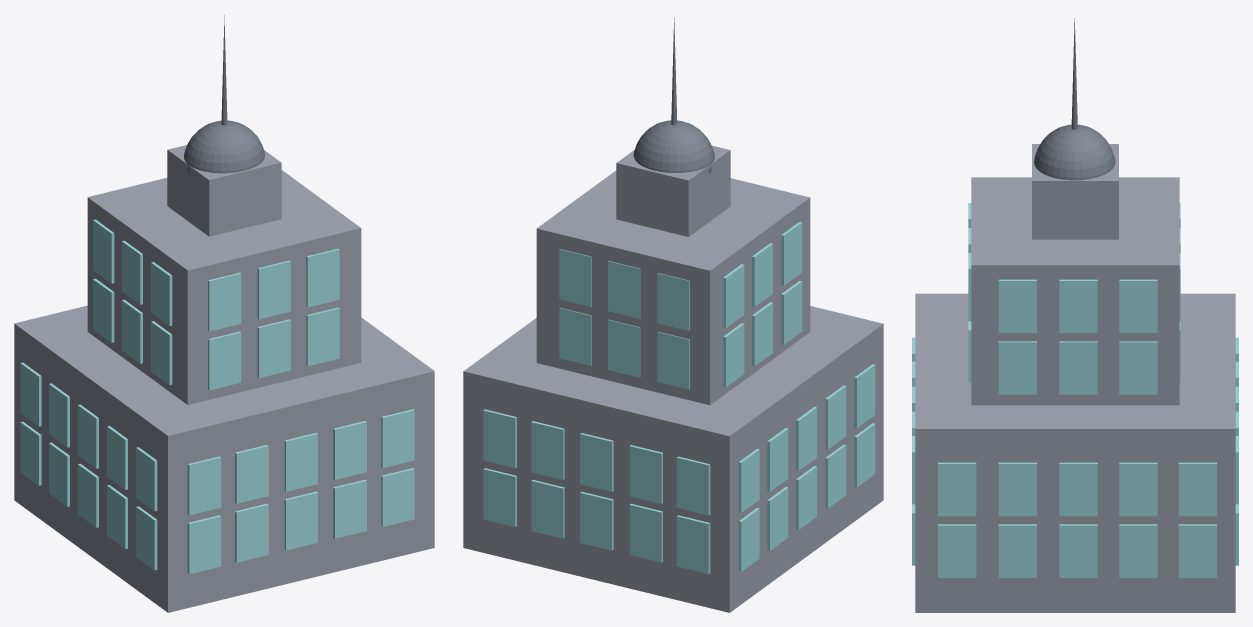
The model's file is skyscraperroof.glb.
3 renders of one model, left to right at view 1: azimuth 30°, elevation 25°; view 2: azimuth 150°, elevation 25°; view 3: azimuth 270°, elevation 25°, orthographic. The views are drawn at different scales.
Visible parts, largest first — view 1: Cube, Cube.005, Cube.012, Sphere, Cube.044, Cube.049, Cube.041, Cube.040, Cube.042, Cube.047, Cube.045, Cube.046 (+24 smaller); view 2: Cube, Cube.005, Cube.012, Sphere, Cube.020, Cube.025, Cube.023, Cube.018, Cube.017, Cube.019, Cube.021, Cube.022 (+24 smaller); view 3: Cube, Cube.005, Cube.012, Sphere, Cube.002, Cube.003, Cube.001, Cube.004, Cube.006, Cube.007, Cube.008, Cube.009 (+8 smaller).
Boxes of the visible parts, <box> form: Cube: <box>14,305,434,612</box>; Cube.005: <box>87,170,361,404</box>; Cube.012: <box>167,145,281,236</box>; Sphere: <box>184,120,264,174</box>; Cube.044: <box>187,515,221,574</box>; Cube.049: <box>187,456,221,515</box>; Cube.041: <box>333,479,366,538</box>; Cube.040: <box>381,468,414,526</box>; Cube.042: <box>284,491,317,550</box>; Cube.047: <box>284,432,317,491</box>; Cube.045: <box>381,409,414,467</box>; Cube.046: <box>333,421,366,479</box>; Cube: <box>463,306,883,612</box>; Cube.005: <box>536,170,810,405</box>; Cube.012: <box>616,145,730,236</box>; Sphere: <box>633,120,714,173</box>; Cube.020: <box>676,515,710,574</box>; Cube.025: <box>676,456,710,515</box>; Cube.023: <box>580,433,613,491</box>; Cube.018: <box>580,491,613,550</box>; Cube.017: <box>531,480,564,538</box>; Cube.019: <box>629,503,662,562</box>; Cube.021: <box>483,409,516,468</box>; Cube.022: <box>531,421,564,479</box>; Cube: <box>915,293,1235,612</box>; Cube.005: <box>971,177,1179,405</box>; Cube.012: <box>1032,144,1118,239</box>; Sphere: <box>1034,124,1115,180</box>; Cube.002: <box>1059,462,1097,516</box>; Cube.003: <box>1119,462,1157,516</box>; Cube.001: <box>998,462,1036,516</box>; Cube.004: <box>938,462,976,516</box>; Cube.006: <box>1178,462,1216,516</box>; Cube.007: <box>938,524,976,577</box>; Cube.008: <box>998,524,1036,577</box>; Cube.009: <box>1059,524,1097,577</box>.
Bounding box in the file's own units: 1.5 × 2.7 × 1.5.
